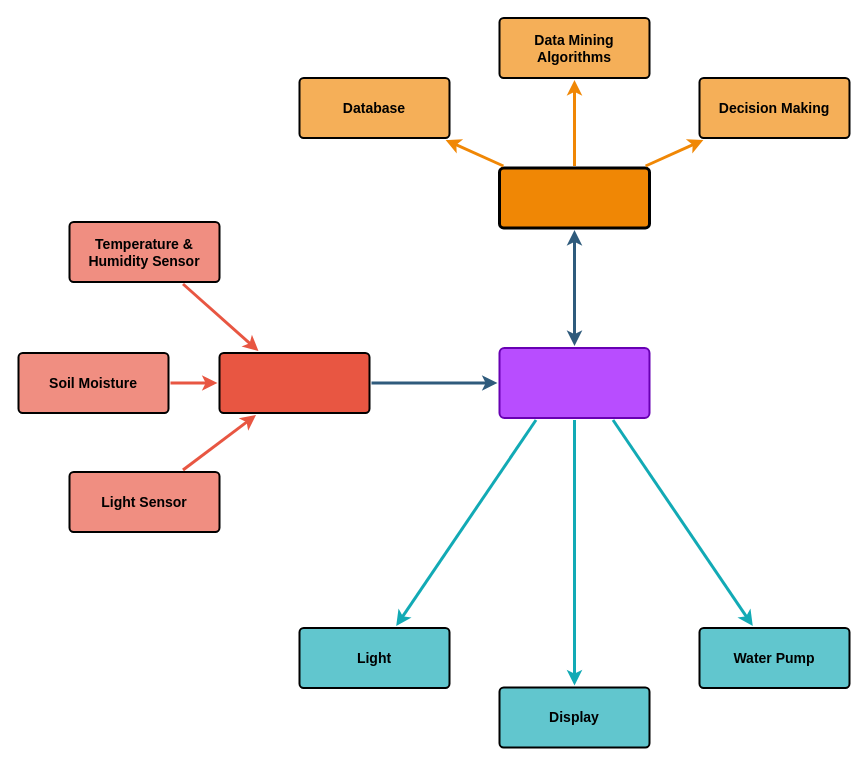
The diagram is 867 pixels wide and 766 high, and some of its shapes have lost their labels. Here are the shapes that lost their labels. From the top down, the centre of each, then its label:
At point 574,197: "Cloud".
At point 294,383: "Sensors".
At point 574,382: "NodeMCU".
